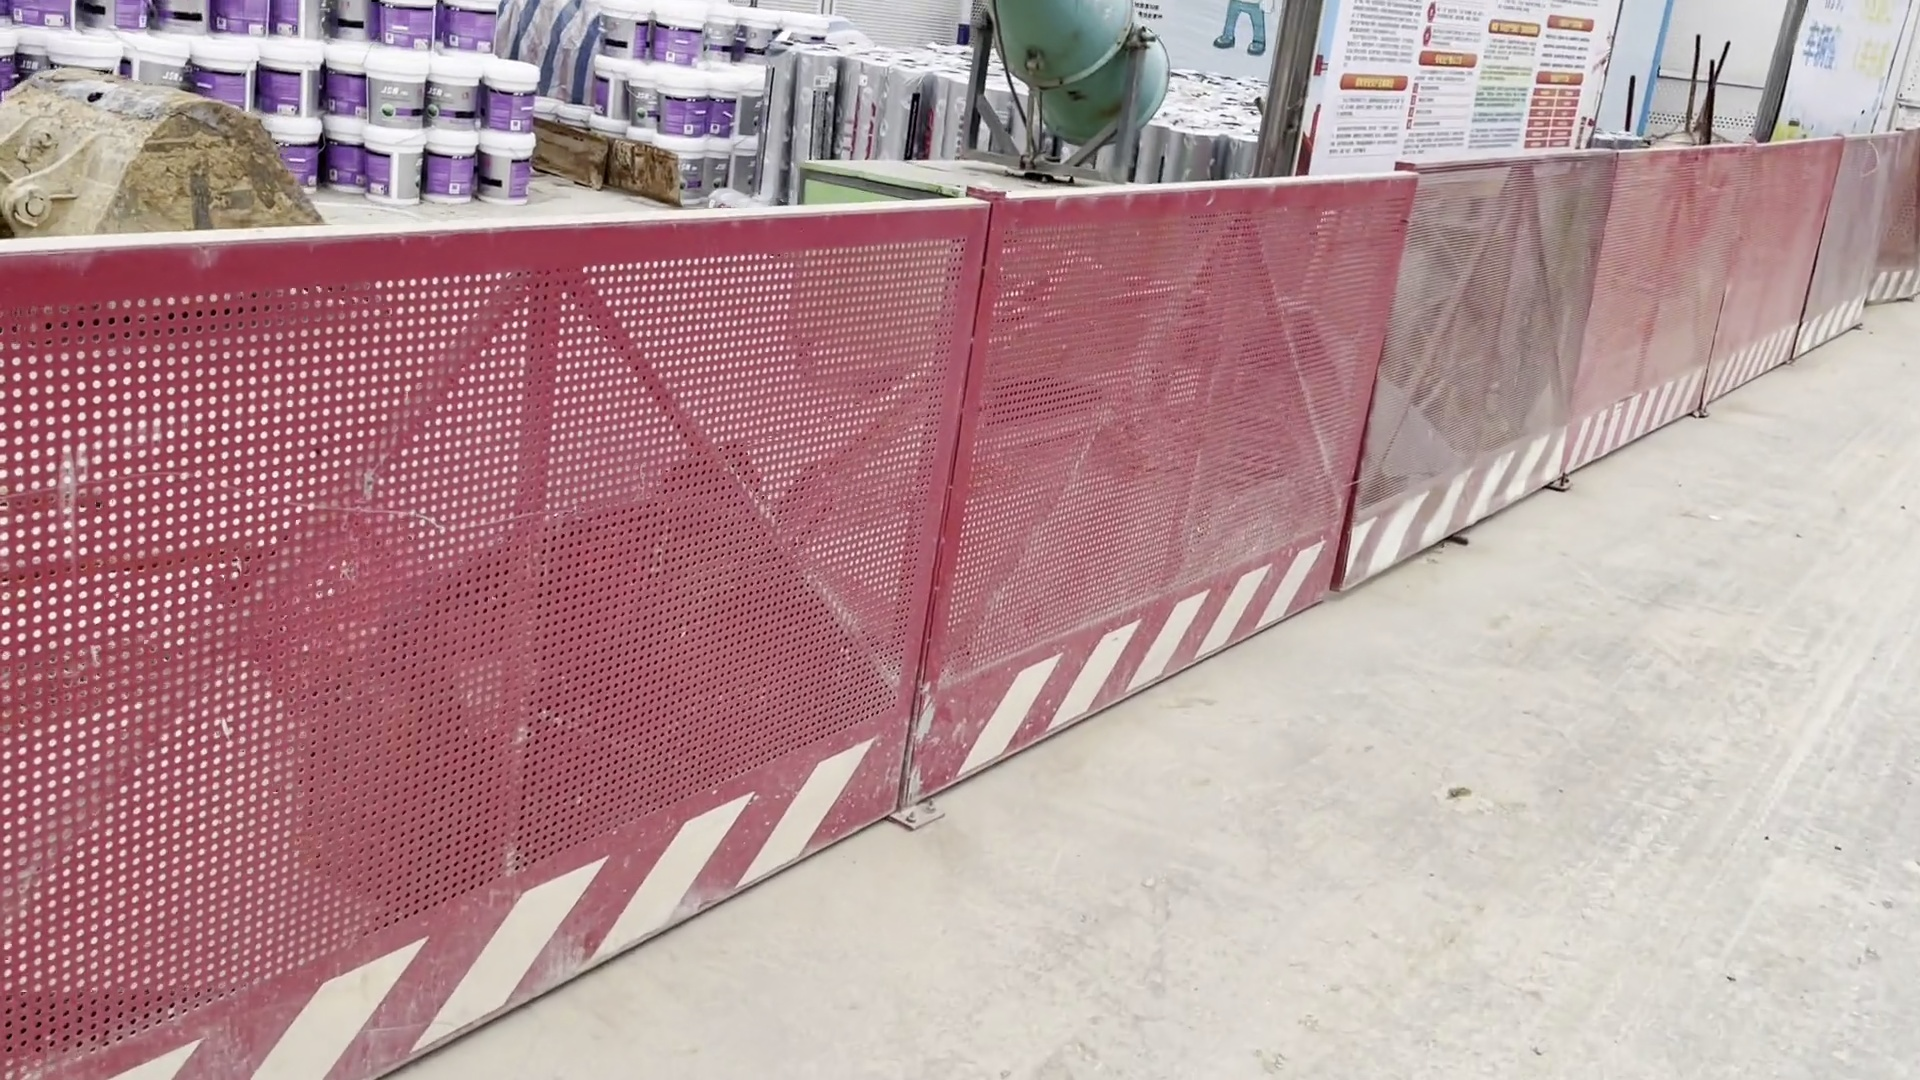fence: (32, 133, 1854, 1080)
